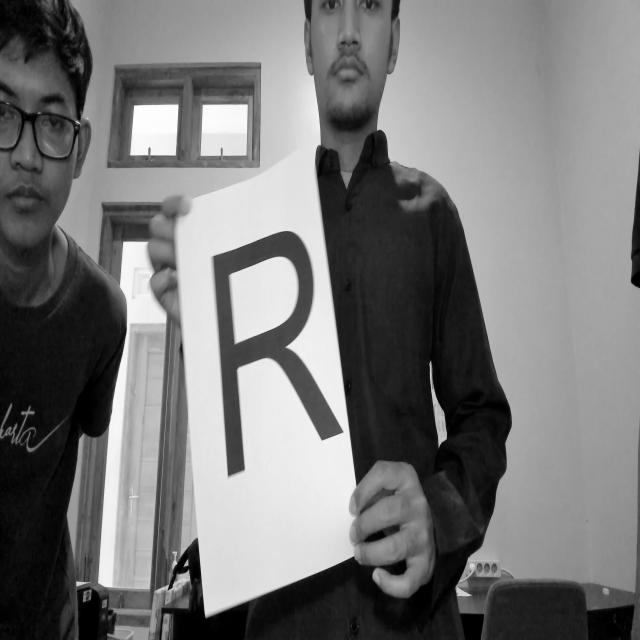r: (197, 214, 351, 496)
